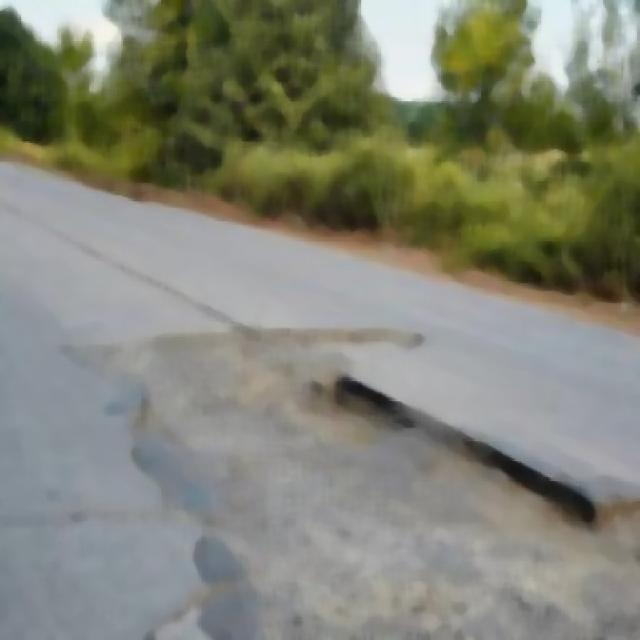Pothole: (110, 332, 572, 636)
